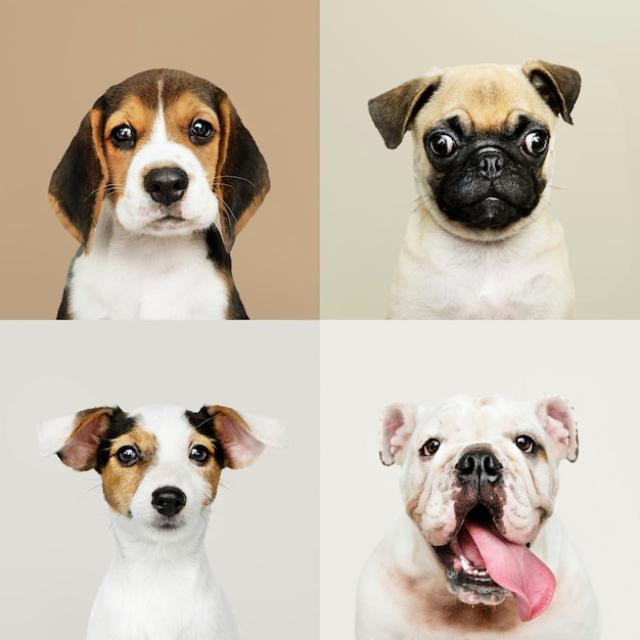Dog: (355, 391, 600, 640), (39, 404, 280, 640), (47, 69, 270, 318), (370, 60, 582, 320)
